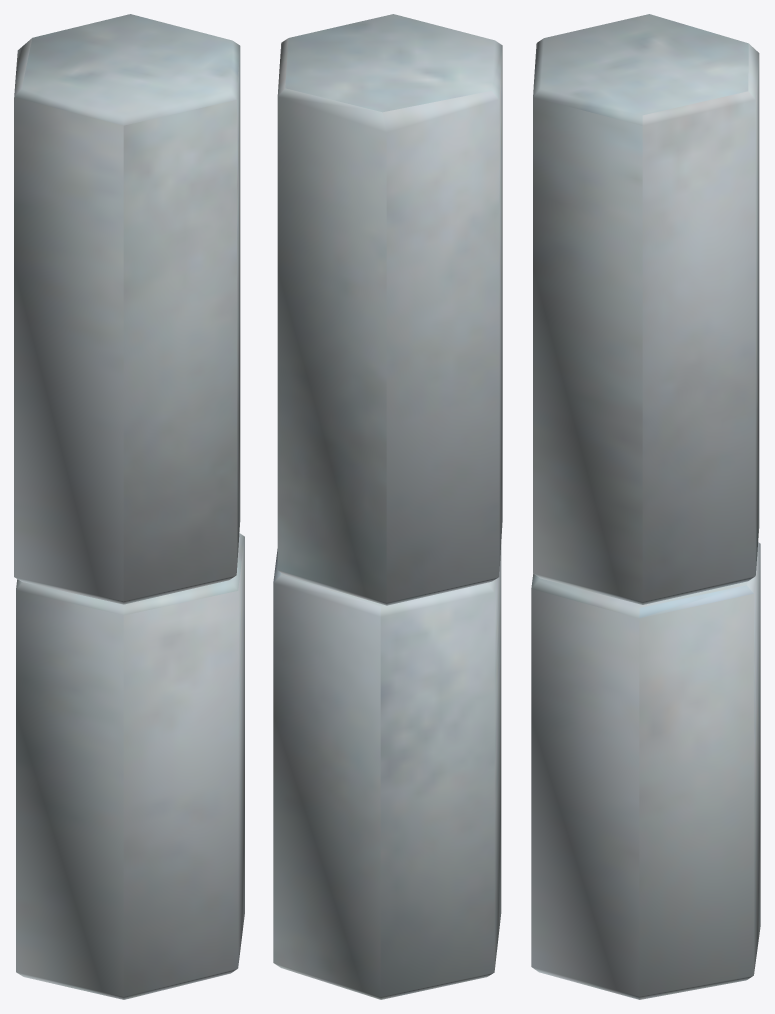
The model's file is P_RockHexic_Piece14.obj.
The picture shows the model from 3 angles, left to right: view 1: azimuth 30°, elevation 25°; view 2: azimuth 150°, elevation 25°; view 3: azimuth 270°, elevation 25°; orthographic projection.
Bounding box in the file's own units: 4.15 × 15.67 × 3.65.
